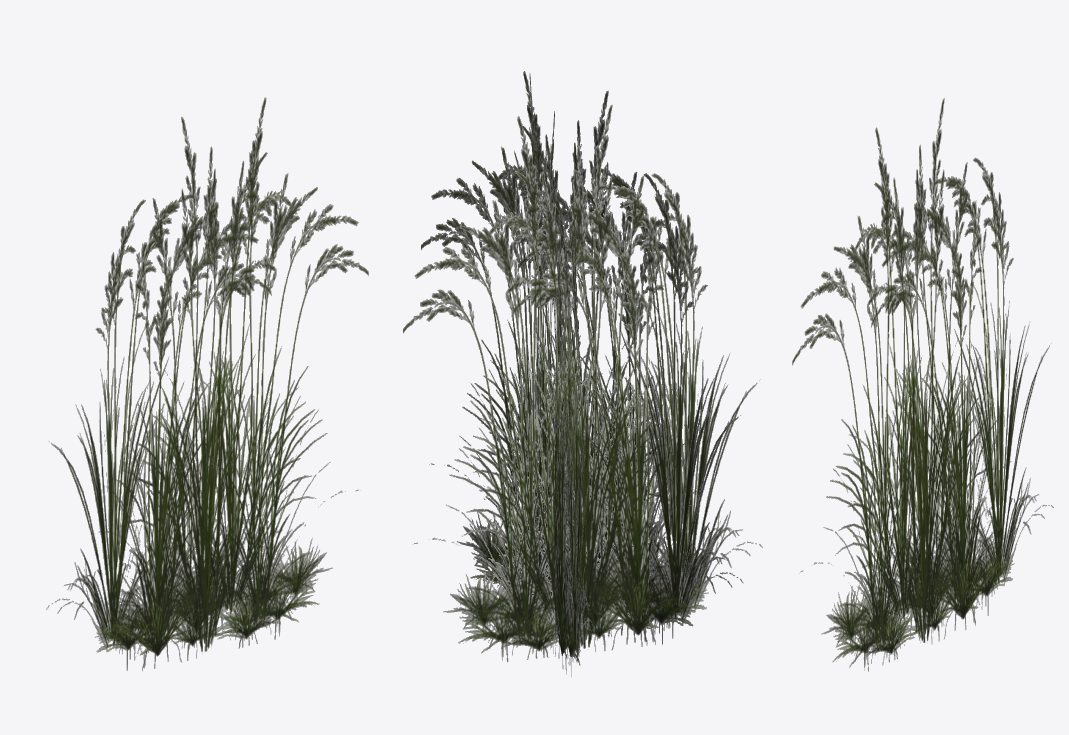
Rendered from grass3.glb.
The picture shows the model from 3 angles, left to right: view 1: azimuth 30°, elevation 25°; view 2: azimuth 150°, elevation 25°; view 3: azimuth 270°, elevation 25°; orthographic projection.
Parts seen in each view (by area): view 1: grass; view 2: grass; view 3: grass.
Boxes of the visible parts, x1=… form: grass: x1=46, y1=97, x2=368, y2=671; grass: x1=403, y1=71, x2=762, y2=676; grass: x1=792, y1=98, x2=1053, y2=671.
Size of the model in its own units: 1.27 by 2.08 by 0.8986.
Materials: 1 (1 with a texture image).
